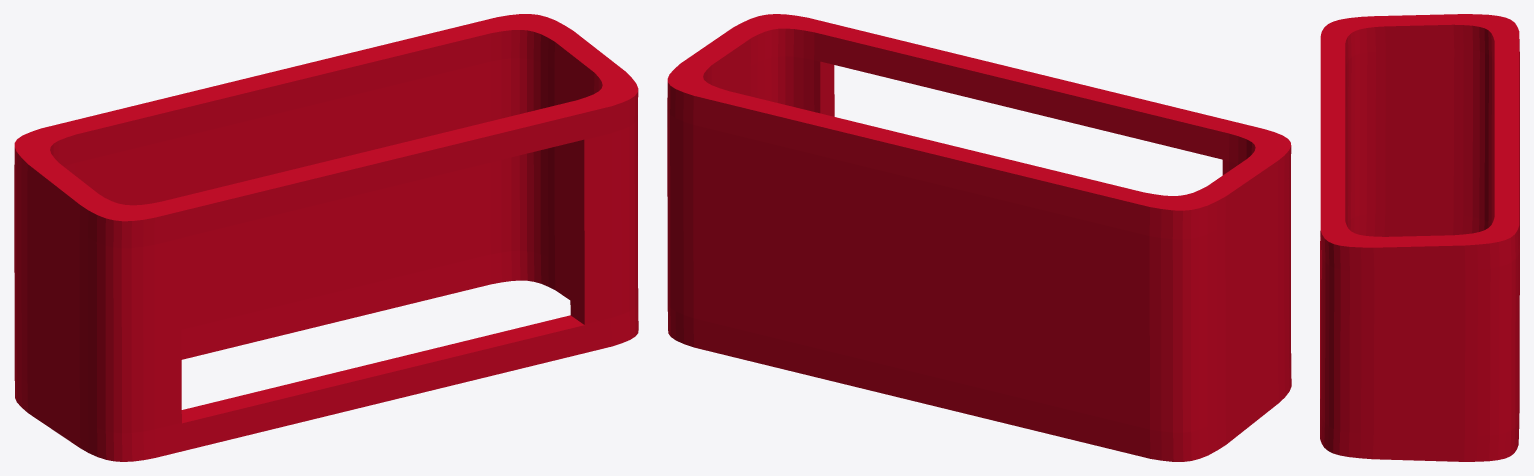
The model's file is slider.fbx.
3 views of the same model, side by side, from view 1: azimuth 30°, elevation 25°; view 2: azimuth 150°, elevation 25°; view 3: azimuth 270°, elevation 25° (orthographic). The views are drawn at different scales.
Parts seen in each view (by area): view 1: BasicPlane.001; view 2: BasicPlane.001; view 3: BasicPlane.001.
Part boxes in pixels (x1,y1,x2,y2): BasicPlane.001: (14, 14, 638, 461); BasicPlane.001: (667, 14, 1291, 461); BasicPlane.001: (1320, 14, 1519, 461).
Size of the model in its own units: 5500 by 2430 by 2007.
